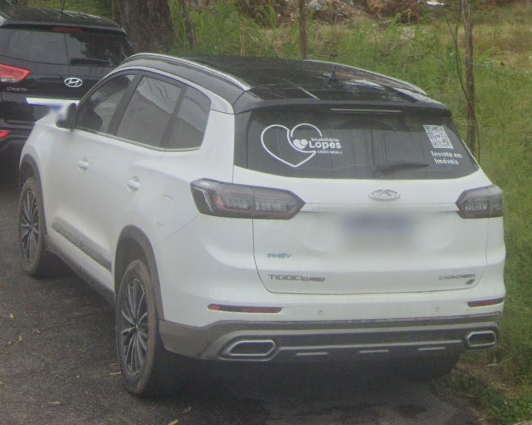car: (17, 53, 511, 394)
